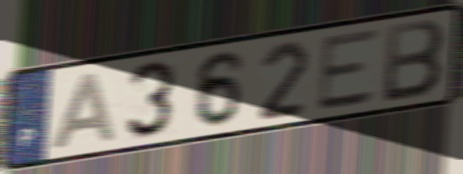2: (256, 38, 311, 123)
3: (122, 57, 182, 142)
6: (193, 48, 246, 129)
A: (48, 70, 118, 154)
B: (381, 16, 448, 106)
E: (314, 25, 384, 115)
